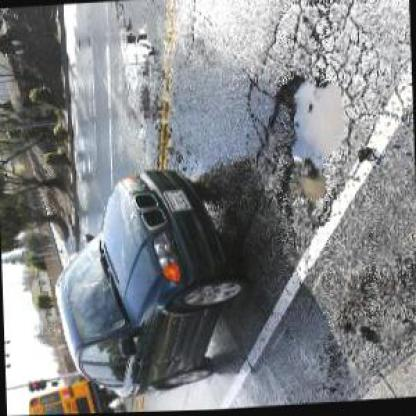pothole: (264, 75, 348, 220)
